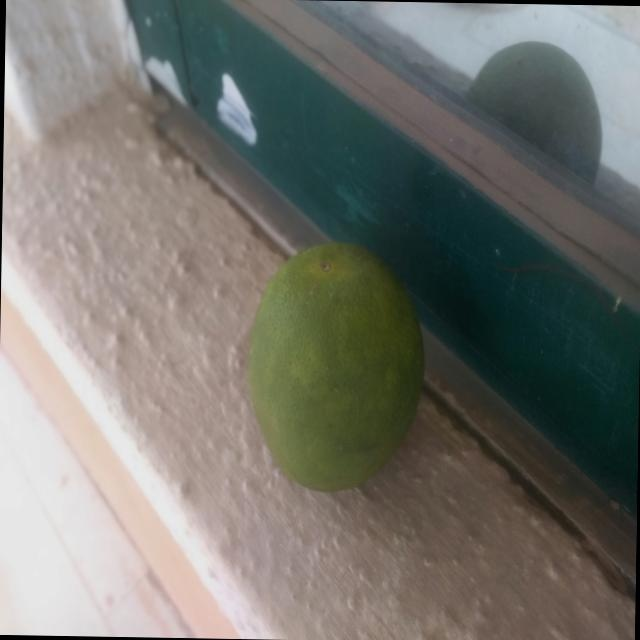agrume: (206, 228, 446, 515)
